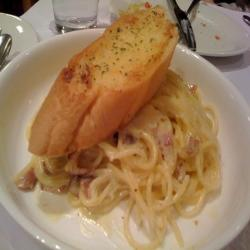bread: (28, 5, 181, 160)
carbonara_pasta: (24, 78, 225, 221)
